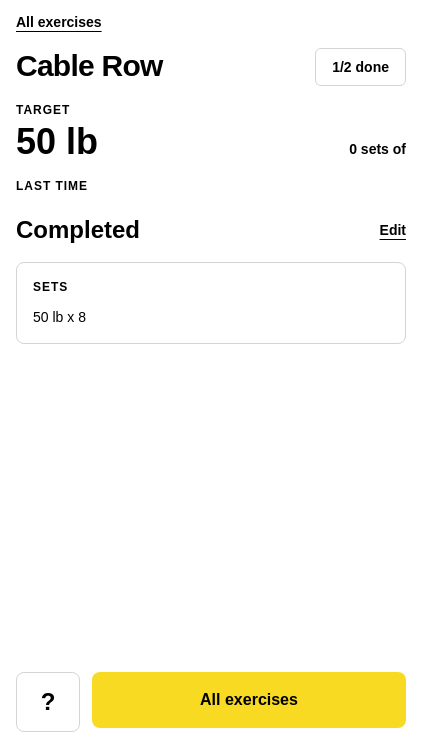
exercise selection › saves checked set corrections immediately and Done returns to the summary
The image size is (428, 749).
Click the button "Edit". click: (393, 230)
box: [380,220,406,240]
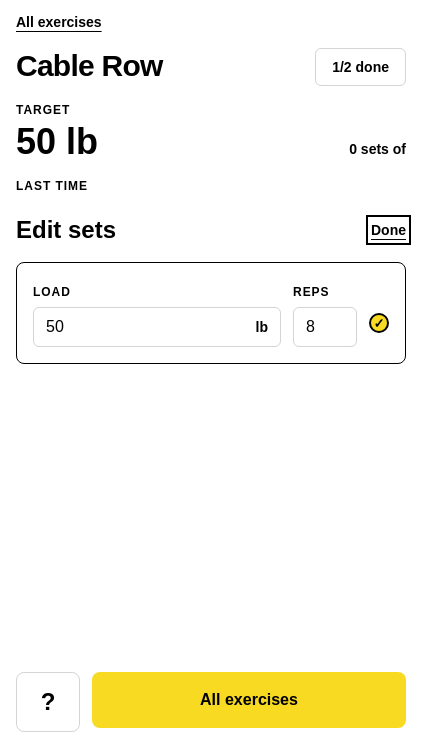
expect the field named "Set 1 Reps" is disabled: met, box [293,307,357,347]
Click the button named "Set 1 completed". click: (379, 323)
box: [369,313,389,333]
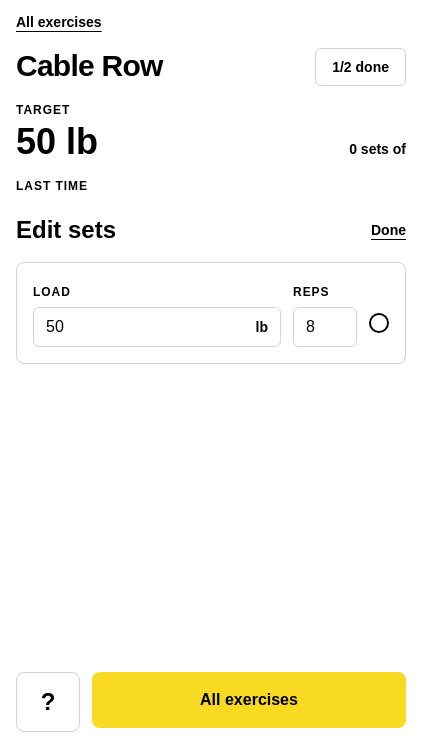
Replace the text in the field named "Set 1 Reps" with "6". click: (325, 327)
box: [293,307,357,347]
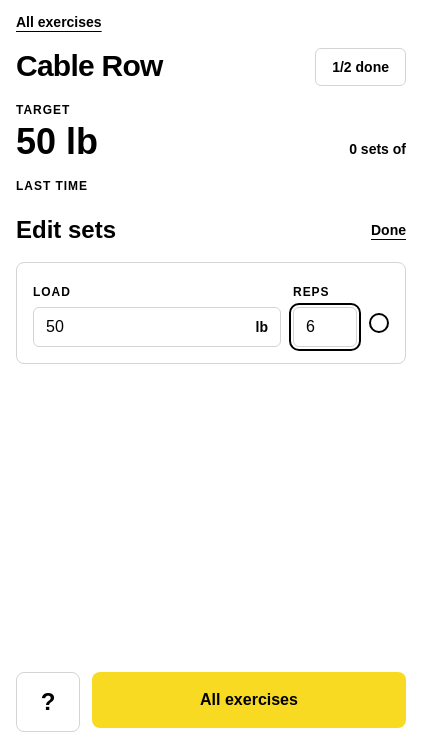
Click the button named "Set 1 completed". click: (379, 323)
box: [369,313,389,333]
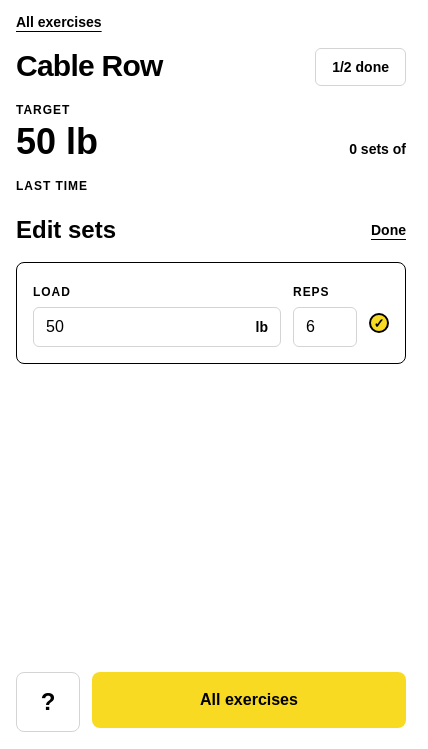
Click the button "Done". click: (388, 230)
box: [371,220,406,240]
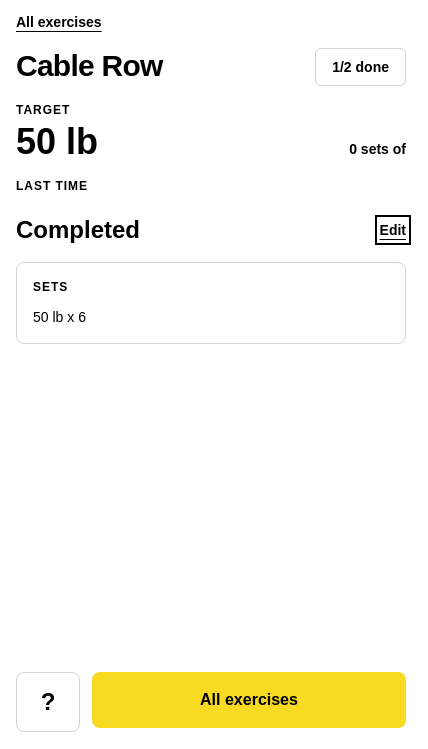
Click the button "Edit". click: (393, 230)
box: [380,220,406,240]
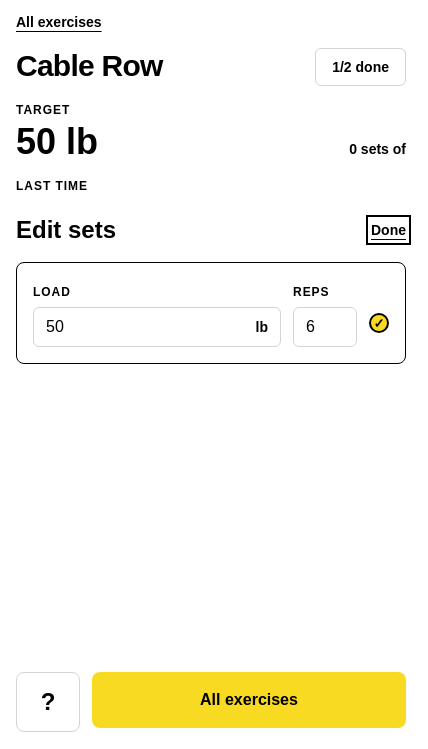
expect the field named "Set 1 Reps" holds "6": met, box [293,307,357,347]
